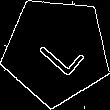L_NW: (28, 23, 85, 79)
